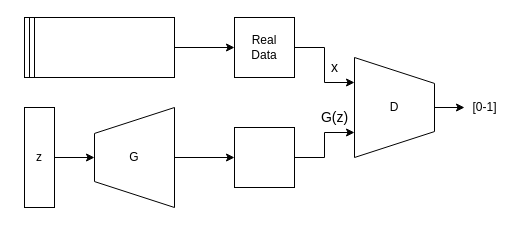
This 514x225 diagram has some shape labels left out. Here are the shapes that lost their labels. From the top down, the centre of each, then its label:
At point 99,47: "Dataset".
At point 264,157: "Fake Data".
